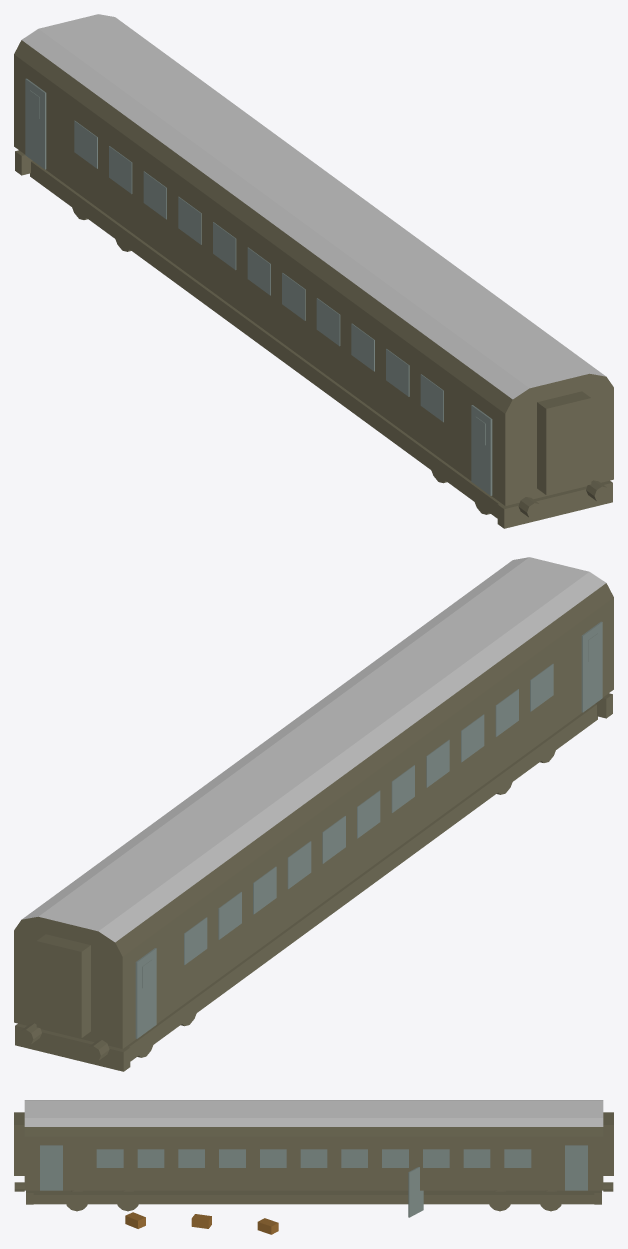
The model's file is SM_VagonAbandonado_v0_Saqueado_LOD1.fbx.
3 renders of one model, top to bottom at view 1: azimuth 30°, elevation 25°; view 2: azimuth 150°, elevation 25°; view 3: azimuth 270°, elevation 25°, orthographic. The views are drawn at different scales.
Parts seen in each view (by area): view 1: SM_vagon_abandonado_v0_LOD1; view 2: SM_vagon_abandonado_v0_LOD1; view 3: SM_vagon_abandonado_v0_LOD1.
Boxes of the visible parts, left/top/right/bottom form: SM_vagon_abandonado_v0_LOD1: left=14, top=14, right=613, bottom=528; SM_vagon_abandonado_v0_LOD1: left=14, top=557, right=613, bottom=1071; SM_vagon_abandonado_v0_LOD1: left=14, top=1100, right=613, bottom=1234.
Size of the model in its own units: 4.58 by 4 by 23.55.
